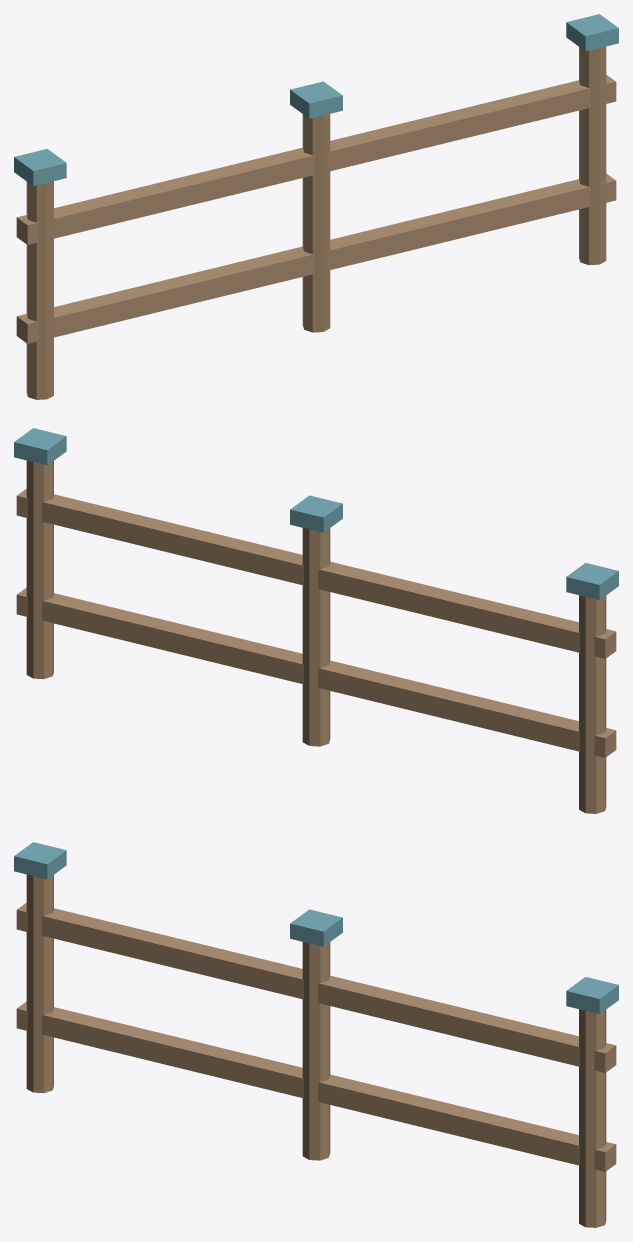
File: town_fence.glb
The picture shows the model from 3 angles, top to bottom: view 1: azimuth 30°, elevation 25°; view 2: azimuth 150°, elevation 25°; view 3: azimuth 330°, elevation 25°; orthographic projection.
Visible parts, largest first — view 1: fence rail, fence rail.001, fence upright.001, fence upright, fence upright.002, post cap.001, post cap.002, post cap; view 2: fence rail, fence rail.001, fence upright.001, fence upright, fence upright.002, post cap.001, post cap.002, post cap; view 3: fence rail, fence rail.001, fence upright.001, fence upright.002, fence upright, post cap, post cap.001, post cap.002.
Boxes of the visible parts, bbox=[...] form: fence rail: bbox=[16, 173, 616, 343]; fence rail.001: bbox=[16, 75, 616, 244]; fence upright.001: bbox=[302, 114, 330, 332]; fence upright: bbox=[26, 181, 53, 399]; fence upright.002: bbox=[579, 46, 606, 265]; post cap.001: bbox=[290, 81, 342, 118]; post cap.002: bbox=[566, 14, 618, 51]; post cap: bbox=[14, 149, 66, 186]; fence rail: bbox=[16, 587, 616, 757]; fence rail.001: bbox=[16, 489, 616, 658]; fence upright.001: bbox=[302, 528, 330, 746]; fence upright: bbox=[579, 595, 606, 813]; fence upright.002: bbox=[26, 460, 53, 679]; post cap.001: bbox=[290, 495, 342, 532]; post cap.002: bbox=[14, 428, 66, 465]; post cap: bbox=[566, 563, 618, 600]; fence rail: bbox=[16, 1001, 616, 1171]; fence rail.001: bbox=[16, 903, 616, 1072]; fence upright.001: bbox=[302, 942, 330, 1160]; fence upright.002: bbox=[579, 1009, 606, 1227]; fence upright: bbox=[26, 874, 53, 1093]; post cap: bbox=[14, 842, 66, 879]; post cap.001: bbox=[290, 909, 342, 946]; post cap.002: bbox=[566, 977, 618, 1014].
Bounding box in the file's own units: 4.05 × 1.54 × 0.23.
